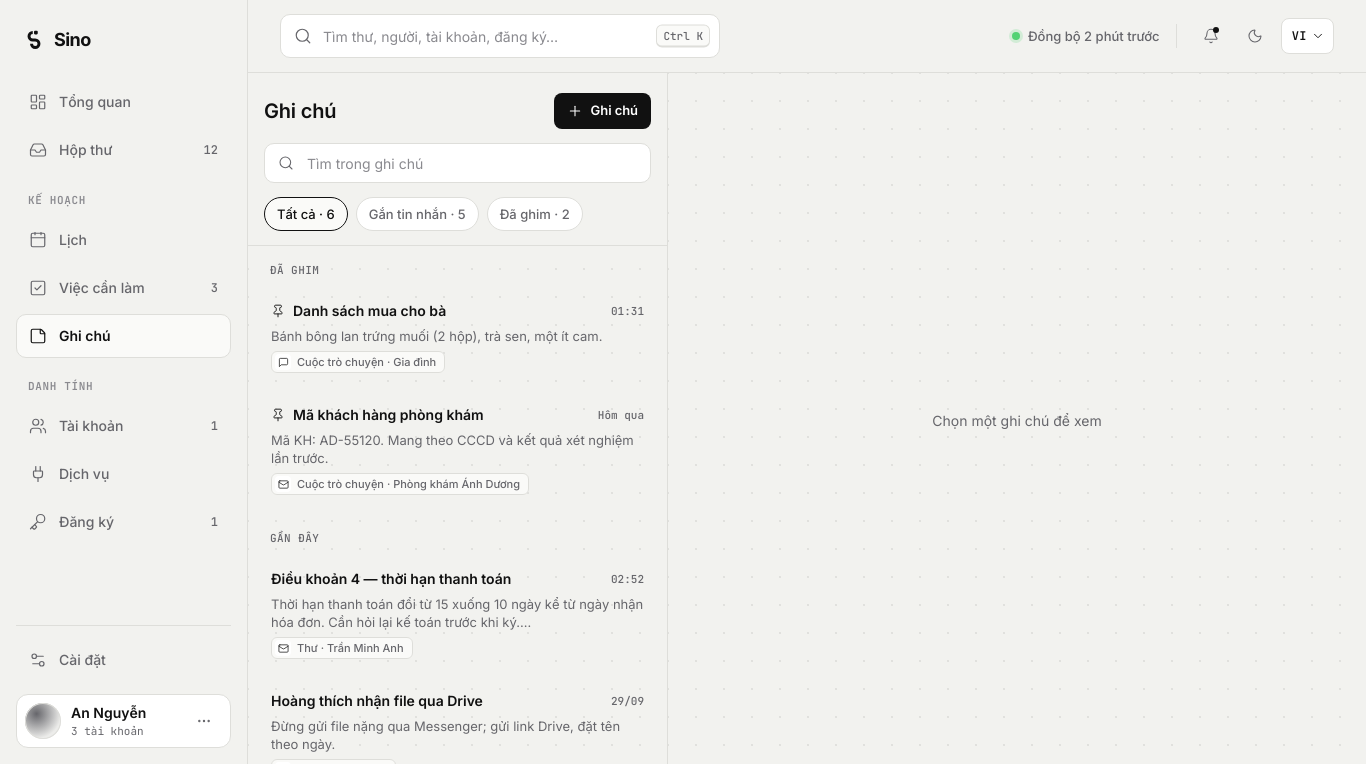
Test: Ghi chú on desktop (NT-02, fe-ui-notes) › filters and searches, keeping both in the address (D-205)
Click the button "Đã ghim · 2" at (535, 214), box [487,197,583,231]
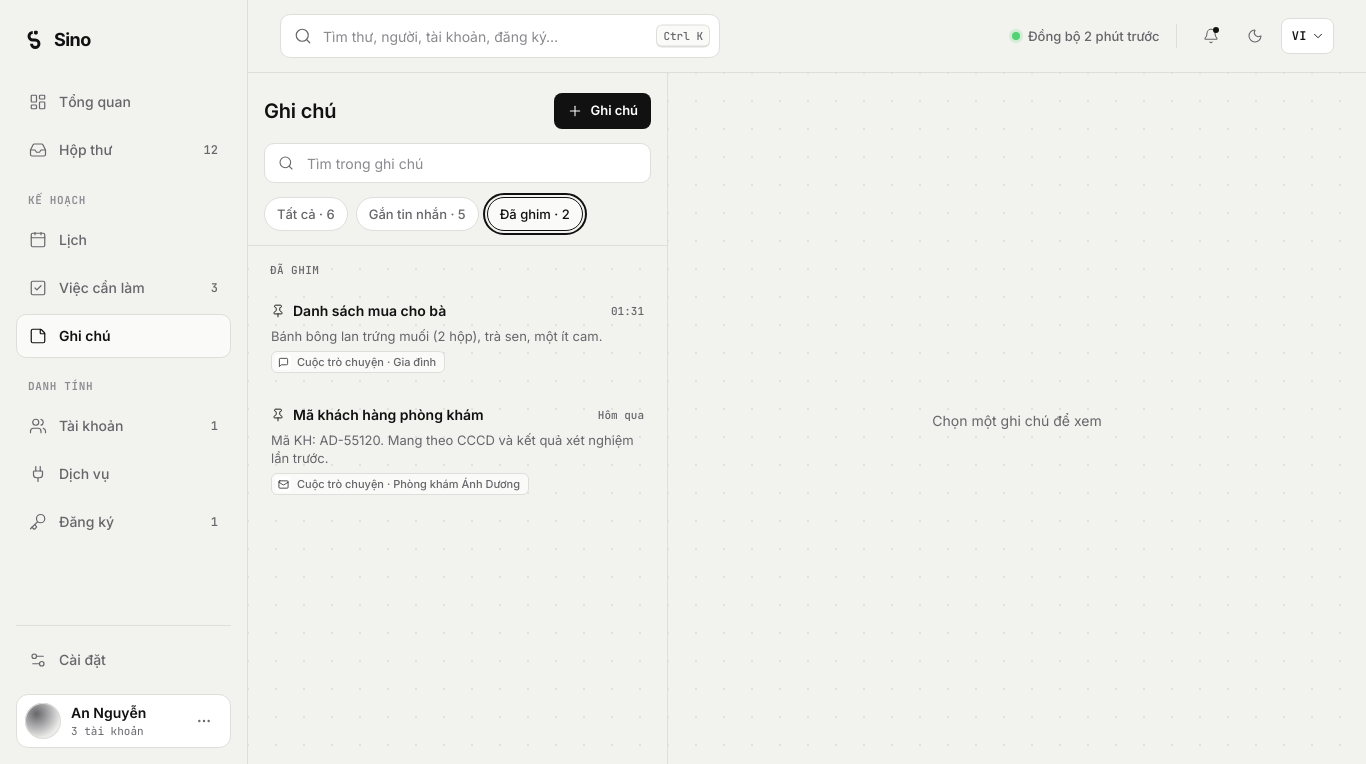
Click the button "Tất cả · 6" at (306, 214), box [264,197,348,231]
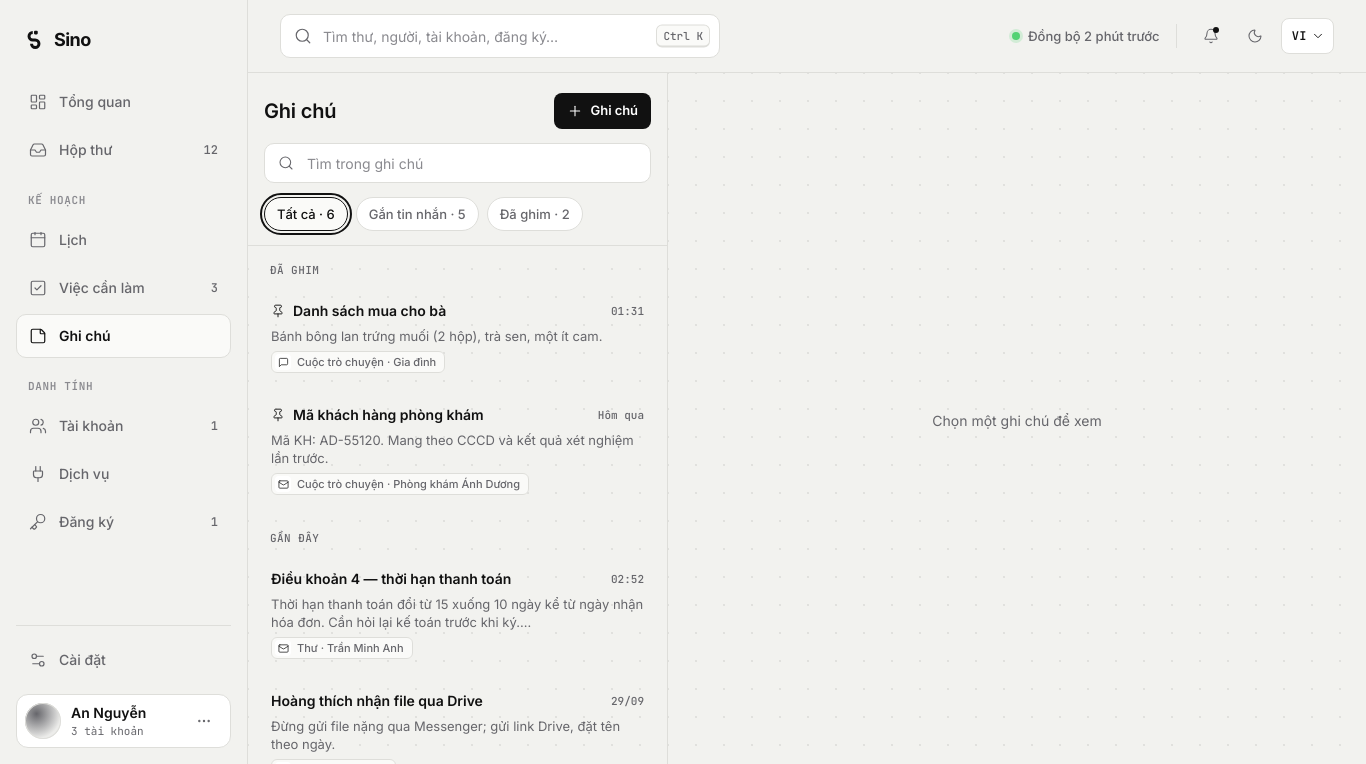
Type "thanh toan" into the search field labelled "Tìm trong ghi chú" at (458, 163), box [264,143,651,183]
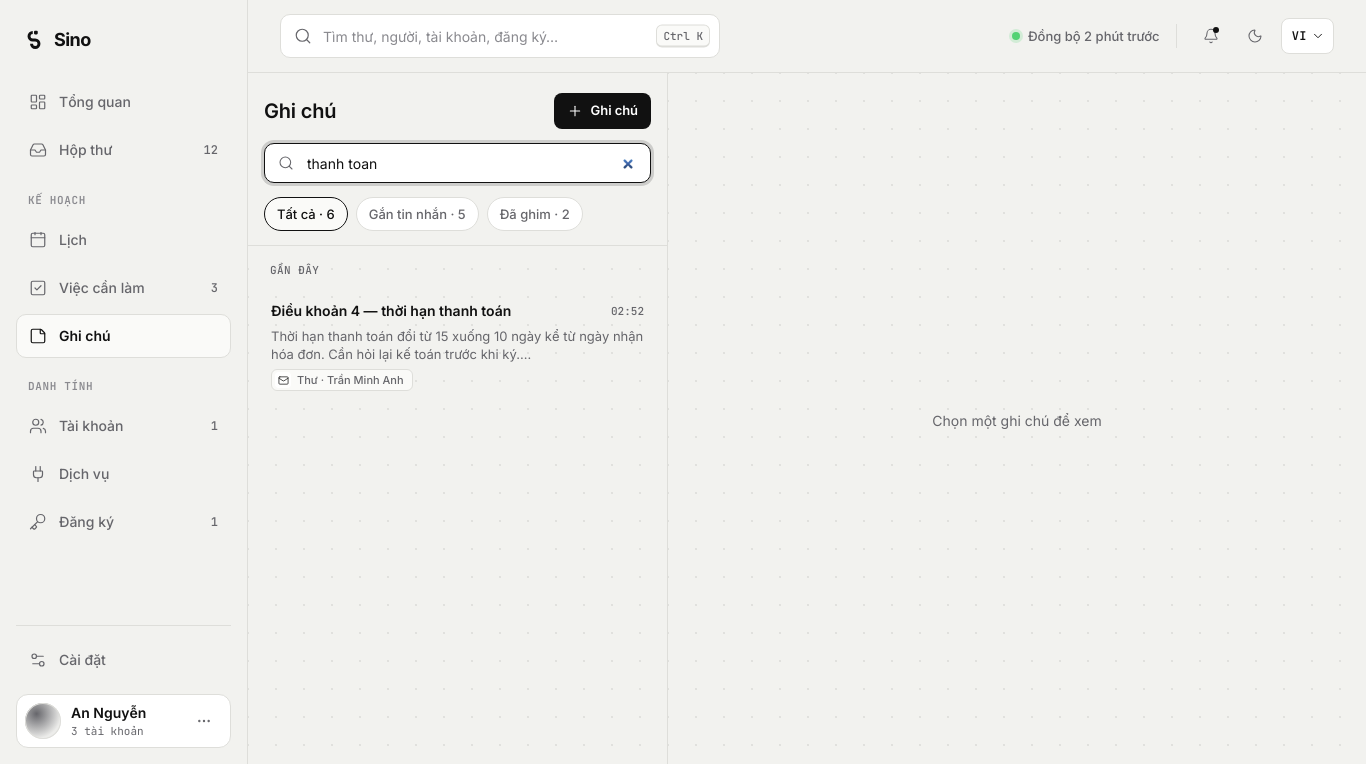
Type " xyz" into the search field named "Tìm trong ghi chú" at (458, 163), box [264,143,651,183]
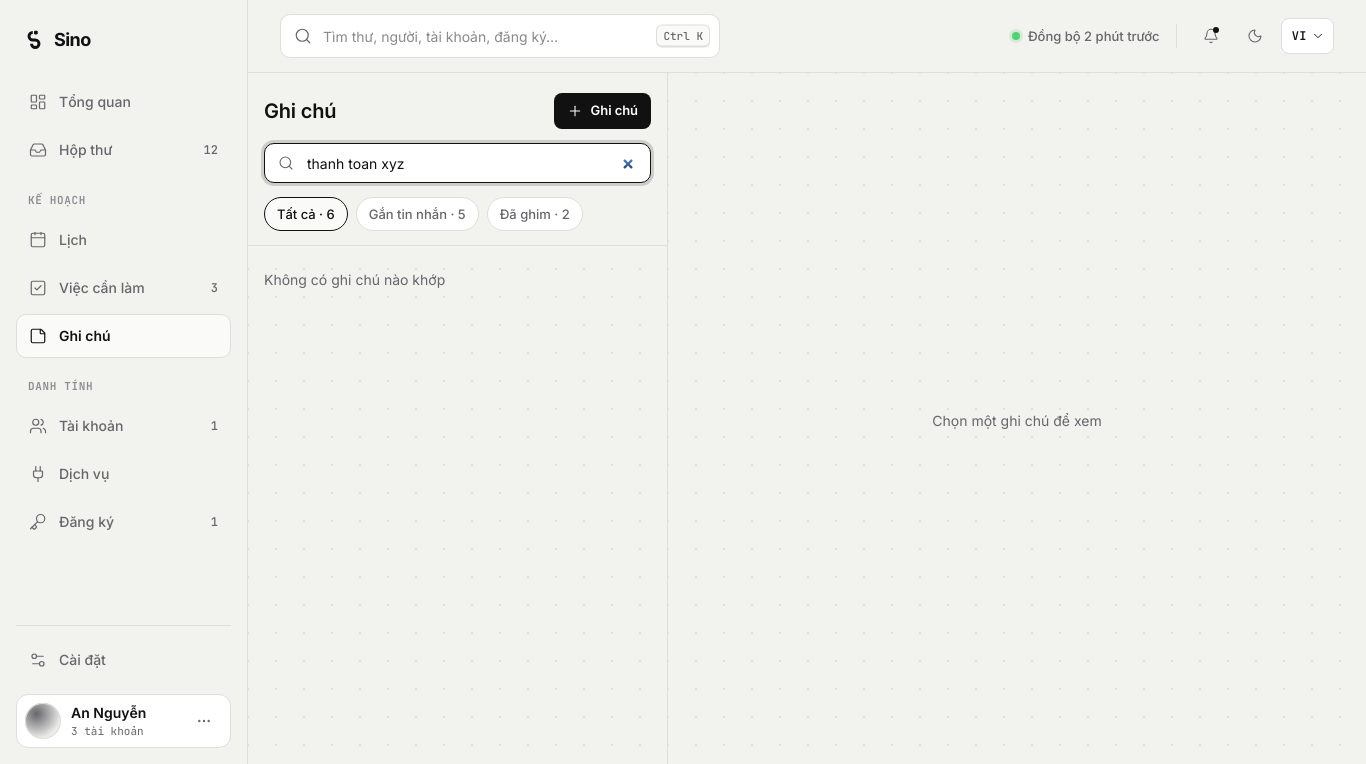
Check: the text "Không có ghi chú nào khớp" is shown, box [264,271,445,288]
